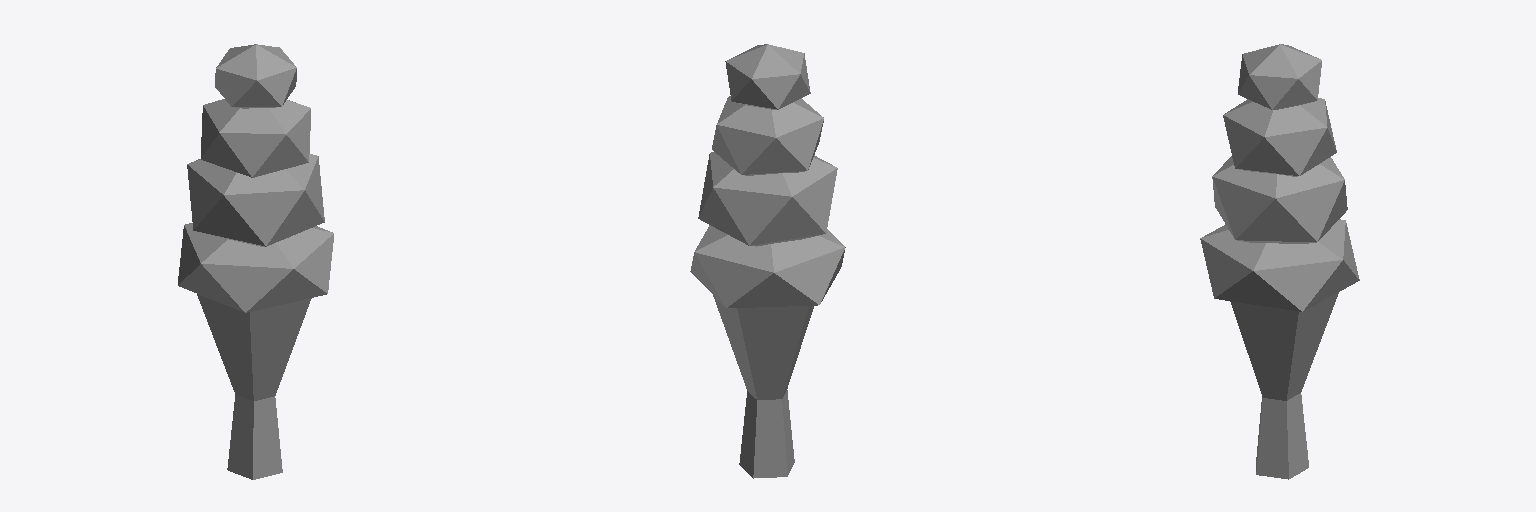
Rendered from hillTree2LP.obj.
3 views of the same model, side by side, from view 1: azimuth 30°, elevation 25°; view 2: azimuth 150°, elevation 25°; view 3: azimuth 270°, elevation 25° (orthographic).
Visible parts, largest first — view 1: Cylinder_Cylinder.001, Icosphere, Icosphere.001, Icosphere.002, Icosphere.003; view 2: Cylinder_Cylinder.001, Icosphere, Icosphere.001, Icosphere.002, Icosphere.003; view 3: Cylinder_Cylinder.001, Icosphere, Icosphere.001, Icosphere.002, Icosphere.003.
Part boxes in pixels (bbox=[...]): Cylinder_Cylinder.001: bbox=[197, 294, 311, 479]; Icosphere: bbox=[178, 223, 333, 312]; Icosphere.001: bbox=[187, 154, 324, 246]; Icosphere.002: bbox=[201, 99, 310, 177]; Icosphere.003: bbox=[215, 44, 296, 108]; Cylinder_Cylinder.001: bbox=[713, 295, 813, 478]; Icosphere: bbox=[690, 225, 845, 307]; Icosphere.001: bbox=[698, 152, 837, 246]; Icosphere.002: bbox=[712, 96, 823, 175]; Icosphere.003: bbox=[725, 44, 810, 109]; Cylinder_Cylinder.001: bbox=[1230, 292, 1338, 479]; Icosphere: bbox=[1200, 219, 1359, 311]; Icosphere.001: bbox=[1212, 156, 1347, 243]; Icosphere.002: bbox=[1223, 98, 1336, 176]; Icosphere.003: bbox=[1238, 44, 1321, 109].
Size of the model in its own units: 1.05 by 3.21 by 1.1.